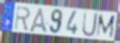4: (65, 10, 79, 37)
9: (49, 8, 65, 36)
A: (28, 7, 48, 35)
M: (95, 14, 116, 39)
R: (14, 6, 32, 32)
U: (82, 11, 99, 38)
